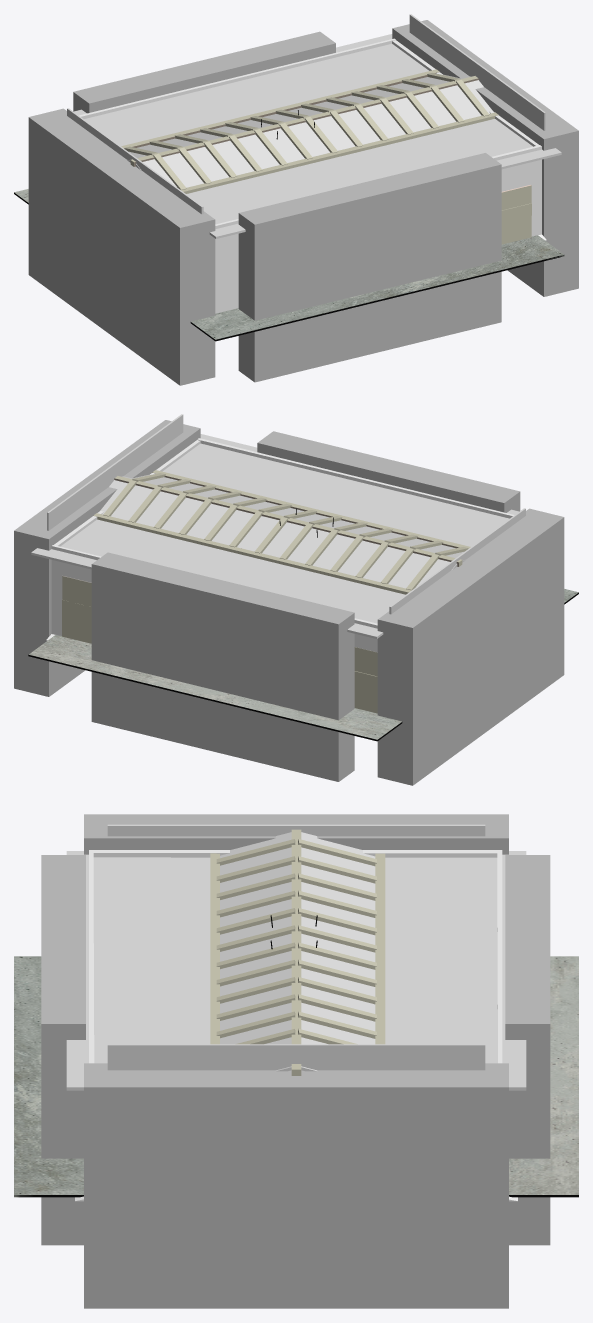
File: MARKET.fbx
The picture shows the model from 3 angles, top to bottom: view 1: azimuth 30°, elevation 25°; view 2: azimuth 150°, elevation 25°; view 3: azimuth 270°, elevation 25°; orthographic projection. The views are drawn at different scales.
Parts seen in each view (by area): view 1: Cube.032, Cube.030, Cube.086, A, FLOOR, Cube.031, Cube.106, Cube.048; view 2: Cube.032, Cube.030, Cube.086, FLOOR, A, Cube.031, Cube.107, Cube.104, Cube.048; view 3: Cube.032, Cube.030, Cube.086, FLOOR, Cube.031, Cube.048, A.
Boxes of the visible parts, <box> form: Cube.032: <box>28,20,578,385</box>; Cube.030: <box>74,34,561,238</box>; Cube.086: <box>121,69,498,193</box>; A: <box>79,38,546,313</box>; FLOOR: <box>14,189,564,341</box>; Cube.031: <box>409,14,545,130</box>; Cube.106: <box>501,185,531,244</box>; Cube.048: <box>67,108,203,214</box>; Cube.032: <box>14,420,564,785</box>; Cube.030: <box>31,434,518,638</box>; Cube.086: <box>93,470,470,594</box>; FLOOR: <box>28,589,578,741</box>; A: <box>46,438,514,652</box>; Cube.031: <box>47,414,183,530</box>; Cube.107: <box>62,575,91,643</box>; Cube.104: <box>354,647,377,713</box>; Cube.048: <box>389,508,525,614</box>; Cube.032: <box>41,814,550,1308</box>; Cube.030: <box>66,832,526,1090</box>; Cube.086: <box>210,829,385,1075</box>; FLOOR: <box>14,956,578,1197</box>; Cube.031: <box>107,1044,485,1070</box>; Cube.048: <box>107,824,485,836</box>; A: <box>75,850,517,1201</box>.
Size of the model in its own units: 2276 by 958 by 1991.
